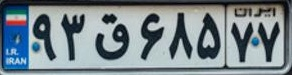character: (90, 9, 134, 63), (58, 8, 90, 64), (135, 9, 166, 63), (164, 10, 194, 65), (30, 10, 59, 66), (193, 10, 223, 63), (254, 17, 283, 64), (227, 18, 256, 64)
